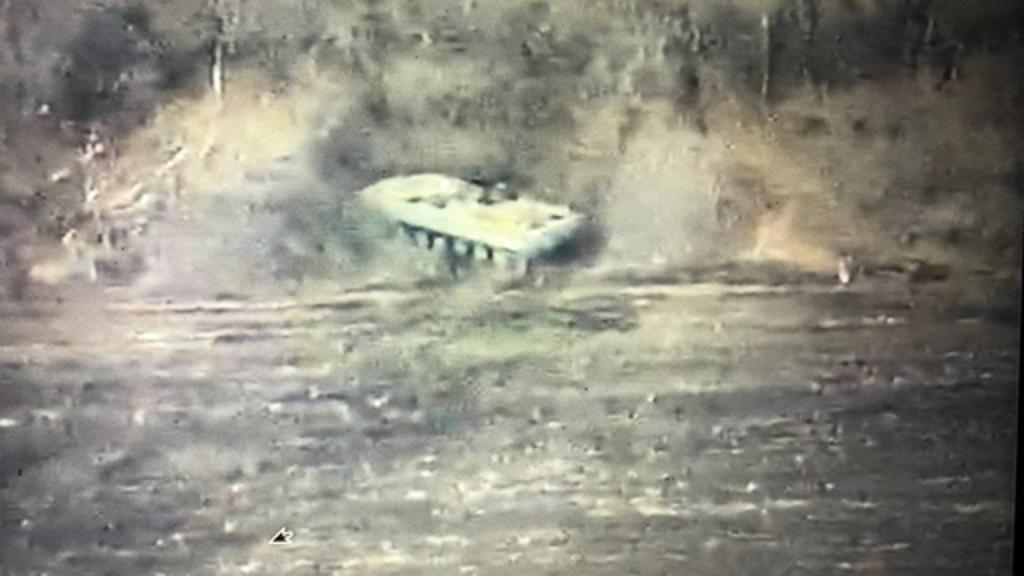APC-IFV: (350, 164, 594, 288)
